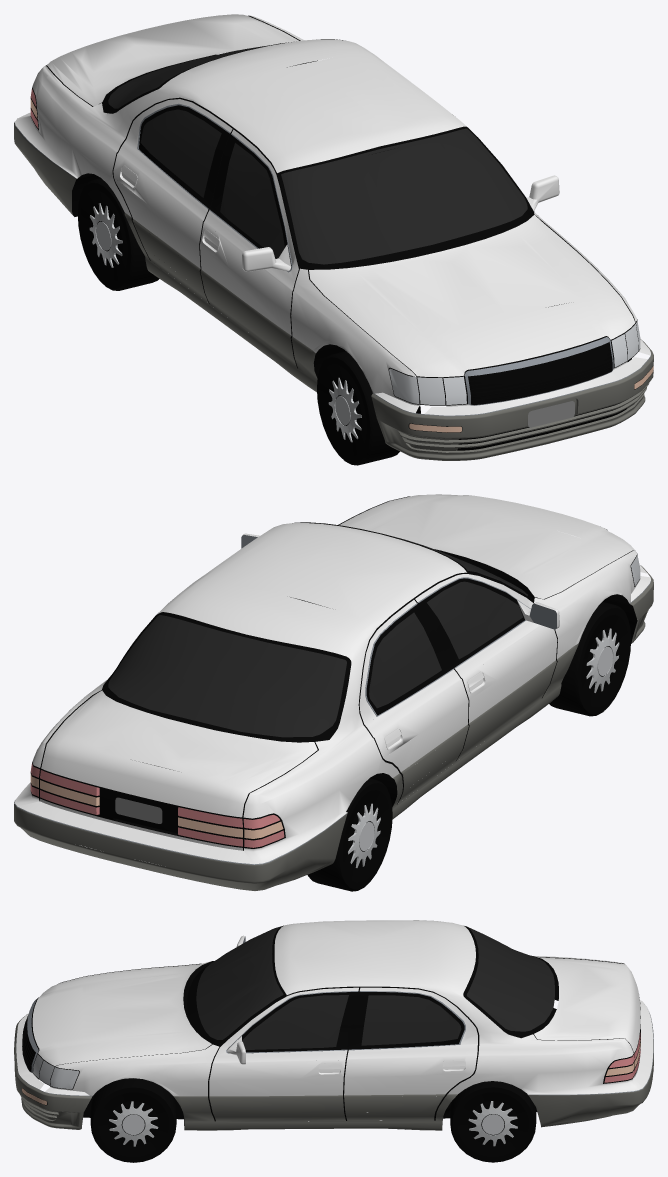
File: car1.glb
The picture shows the model from 3 angles, top to bottom: view 1: azimuth 30°, elevation 25°; view 2: azimuth 150°, elevation 25°; view 3: azimuth 270°, elevation 25°; orthographic projection. The views are drawn at different scales.
Parts seen in each view (by area): view 1: VehicleBody, CAR_GLASS_f10_1_f0_CAR_GLASS_f10_1_f0_1, GREY_LIGHT_f4_1_f0_GREY_LIGHT_f4_1_f0_1, BLACK_MATT_f47_2_f0_BLACK_MATT_f47_2_f0_1, BLACK_BLAC_f300_2_f0_BLACK_BLAC_f300_2_f0_1, BLACK_MATT_f47_2_f713_1_BLACK_MATT_f47_2_f713_1_1, LIGHT_GLAS_f0_LIGHT_GLAS_f0_1, CHROME_f13_2_f0_CHROME_f13_2_f0_1, WHEEL_ALUM_f0_1_f0_WHEEL_ALUM_f0_1_f0_1, BLACK_PLAS_f0_BLACK_PLAS_f0_1, WHITE_1_f0_WHITE_1_f0_1; view 2: VehicleBody, CAR_GLASS_f10_1_f0_CAR_GLASS_f10_1_f0_1, GREY_LIGHT_f4_1_f0_GREY_LIGHT_f4_1_f0_1, BLACK_MATT_f47_2_f0_BLACK_MATT_f47_2_f0_1, BLACK_MATT_f47_2_f713_1_BLACK_MATT_f47_2_f713_1_1, BLACK_BLAC_f300_2_f0_BLACK_BLAC_f300_2_f0_1, LIGHT_RED_f6_1_f0_LIGHT_RED_f6_1_f0_1, WHEEL_ALUM_f0_1_f0_WHEEL_ALUM_f0_1_f0_1, CHROME_f13_2_f0_CHROME_f13_2_f0_1, LIGHT_ORAN_f2_1_f0_LIGHT_ORAN_f2_1_f0_1, WHITE_1_f0_WHITE_1_f0_1; view 3: VehicleBody, CAR_GLASS_f10_1_f0_CAR_GLASS_f10_1_f0_1, GREY_LIGHT_f4_1_f0_GREY_LIGHT_f4_1_f0_1, BLACK_MATT_f47_2_f0_BLACK_MATT_f47_2_f0_1, BLACK_MATT_f47_2_f713_1_BLACK_MATT_f47_2_f713_1_1, WHEEL_ALUM_f0_1_f0_WHEEL_ALUM_f0_1_f0_1, BLACK_BLAC_f300_2_f0_BLACK_BLAC_f300_2_f0_1, CHROME_f13_2_f0_CHROME_f13_2_f0_1, LIGHT_GLAS_f0_LIGHT_GLAS_f0_1, LIGHT_RED_f6_1_f0_LIGHT_RED_f6_1_f0_1, LIGHT_ORAN_f2_1_f0_LIGHT_ORAN_f2_1_f0_1.
Part boxes in pixels (x1,y1,x2,y2): VehicleBody: [15, 14, 650, 415]; CAR_GLASS_f10_1_f0_CAR_GLASS_f10_1_f0_1: [108, 42, 527, 264]; GREY_LIGHT_f4_1_f0_GREY_LIGHT_f4_1_f0_1: [14, 123, 653, 460]; BLACK_MATT_f47_2_f0_BLACK_MATT_f47_2_f0_1: [72, 39, 631, 465]; BLACK_BLAC_f300_2_f0_BLACK_BLAC_f300_2_f0_1: [30, 15, 652, 450]; BLACK_MATT_f47_2_f713_1_BLACK_MATT_f47_2_f713_1_1: [77, 183, 370, 463]; LIGHT_GLAS_f0_LIGHT_GLAS_f0_1: [389, 321, 640, 404]; CHROME_f13_2_f0_CHROME_f13_2_f0_1: [14, 103, 651, 416]; WHEEL_ALUM_f0_1_f0_WHEEL_ALUM_f0_1_f0_1: [89, 203, 361, 442]; BLACK_PLAS_f0_BLACK_PLAS_f0_1: [468, 342, 612, 404]; WHITE_1_f0_WHITE_1_f0_1: [528, 401, 574, 427]; VehicleBody: [15, 494, 650, 864]; CAR_GLASS_f10_1_f0_CAR_GLASS_f10_1_f0_1: [108, 522, 527, 737]; GREY_LIGHT_f4_1_f0_GREY_LIGHT_f4_1_f0_1: [14, 565, 653, 890]; BLACK_MATT_f47_2_f0_BLACK_MATT_f47_2_f0_1: [40, 522, 637, 891]; BLACK_MATT_f47_2_f713_1_BLACK_MATT_f47_2_f713_1_1: [339, 608, 631, 889]; BLACK_BLAC_f300_2_f0_BLACK_BLAC_f300_2_f0_1: [30, 496, 639, 850]; LIGHT_RED_f6_1_f0_LIGHT_RED_f6_1_f0_1: [30, 763, 284, 847]; WHEEL_ALUM_f0_1_f0_WHEEL_ALUM_f0_1_f0_1: [348, 628, 619, 867]; CHROME_f13_2_f0_CHROME_f13_2_f0_1: [14, 530, 651, 864]; LIGHT_ORAN_f2_1_f0_LIGHT_ORAN_f2_1_f0_1: [30, 774, 283, 838]; WHITE_1_f0_WHITE_1_f0_1: [115, 797, 162, 823]; VehicleBody: [16, 920, 653, 1096]; CAR_GLASS_f10_1_f0_CAR_GLASS_f10_1_f0_1: [196, 926, 554, 1049]; GREY_LIGHT_f4_1_f0_GREY_LIGHT_f4_1_f0_1: [14, 1014, 653, 1130]; BLACK_MATT_f47_2_f0_BLACK_MATT_f47_2_f0_1: [22, 925, 640, 1162]; BLACK_MATT_f47_2_f713_1_BLACK_MATT_f47_2_f713_1_1: [92, 1087, 534, 1161]; WHEEL_ALUM_f0_1_f0_WHEEL_ALUM_f0_1_f0_1: [109, 1101, 517, 1146]; BLACK_BLAC_f300_2_f0_BLACK_BLAC_f300_2_f0_1: [22, 957, 640, 1121]; CHROME_f13_2_f0_CHROME_f13_2_f0_1: [16, 936, 653, 1096]; LIGHT_GLAS_f0_LIGHT_GLAS_f0_1: [33, 1054, 78, 1089]; LIGHT_RED_f6_1_f0_LIGHT_RED_f6_1_f0_1: [604, 1033, 640, 1082]; LIGHT_ORAN_f2_1_f0_LIGHT_ORAN_f2_1_f0_1: [22, 1040, 640, 1104].
Size of the model in its own units: 2.64 by 1.79 by 6.14.
